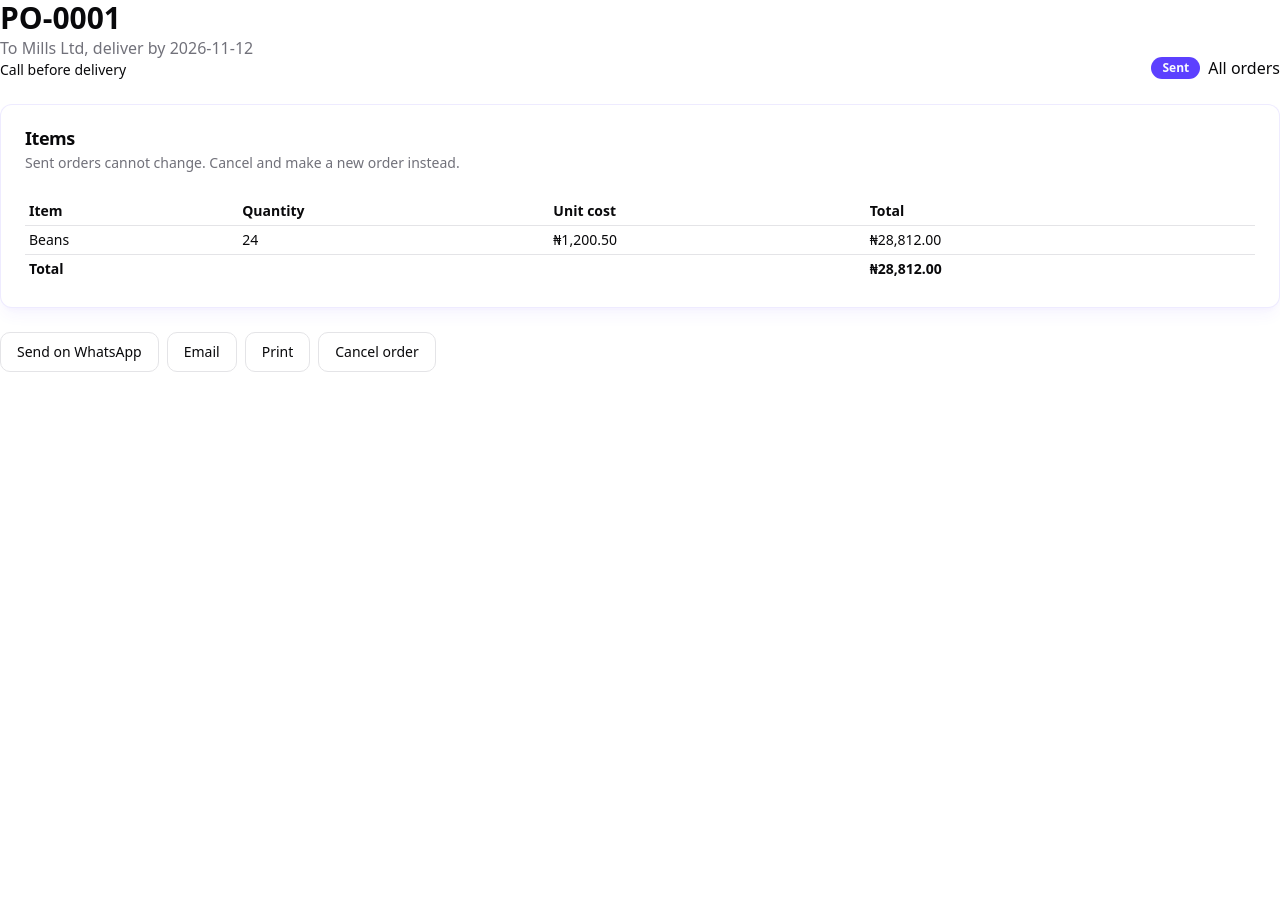
Test: a sent order is shared with the supplier and cancelled with a reason
Click the button "Cancel order": (377, 352) [318,332,436,372]
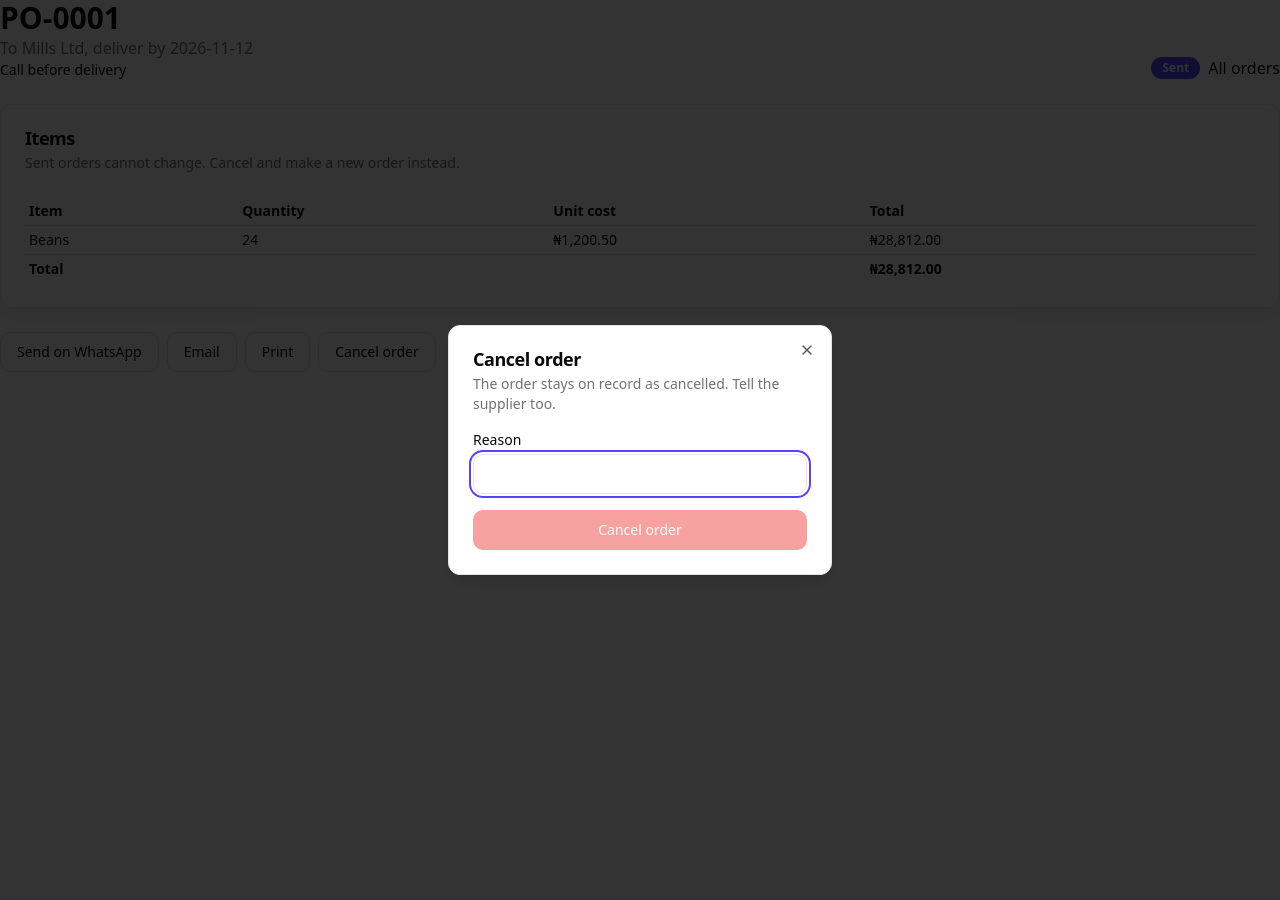
In the field labelled "Reason": (640, 474) [473,454,807,494], type "Found a cheaper supplier"
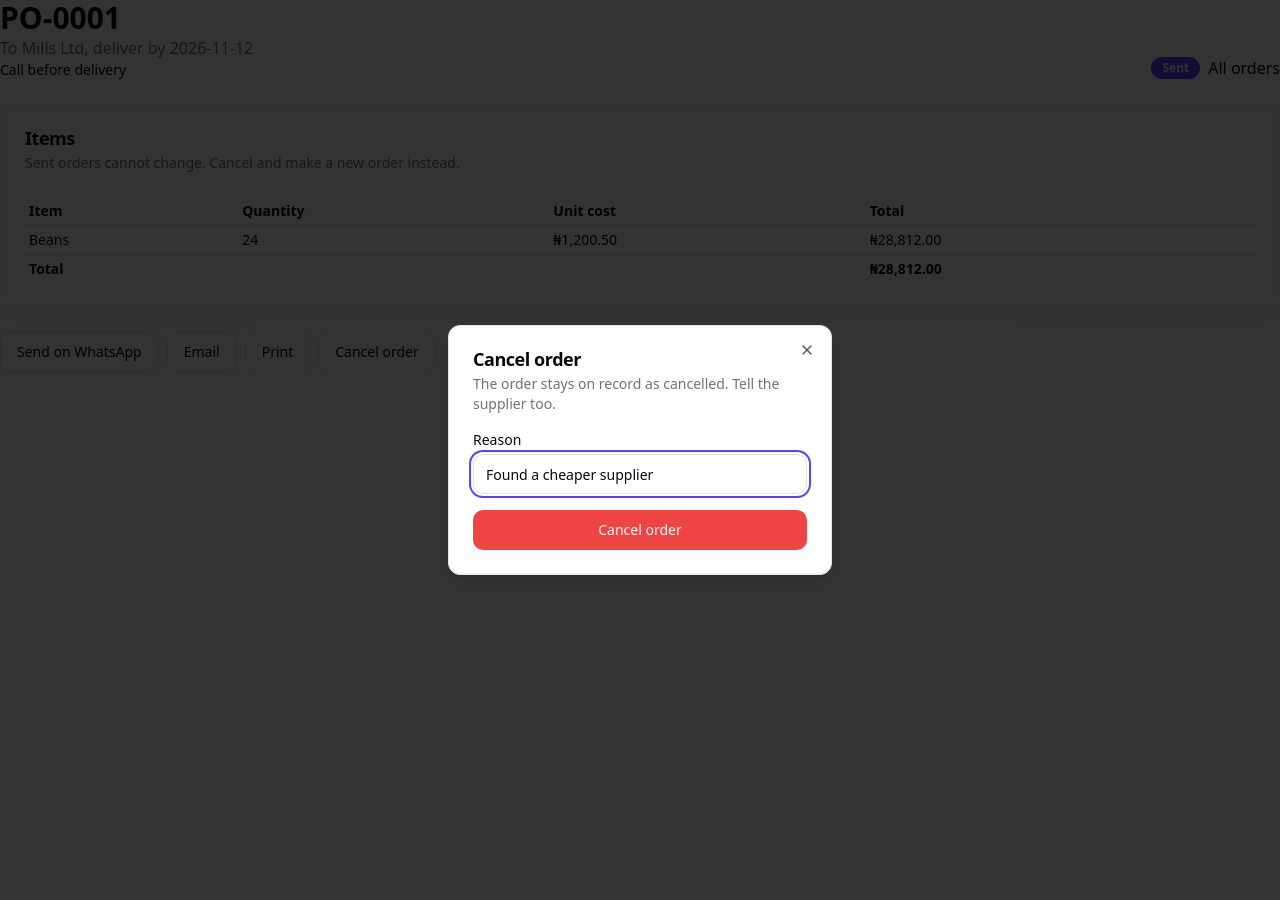
Click the button "Cancel order": (640, 530) [473,510,807,550]
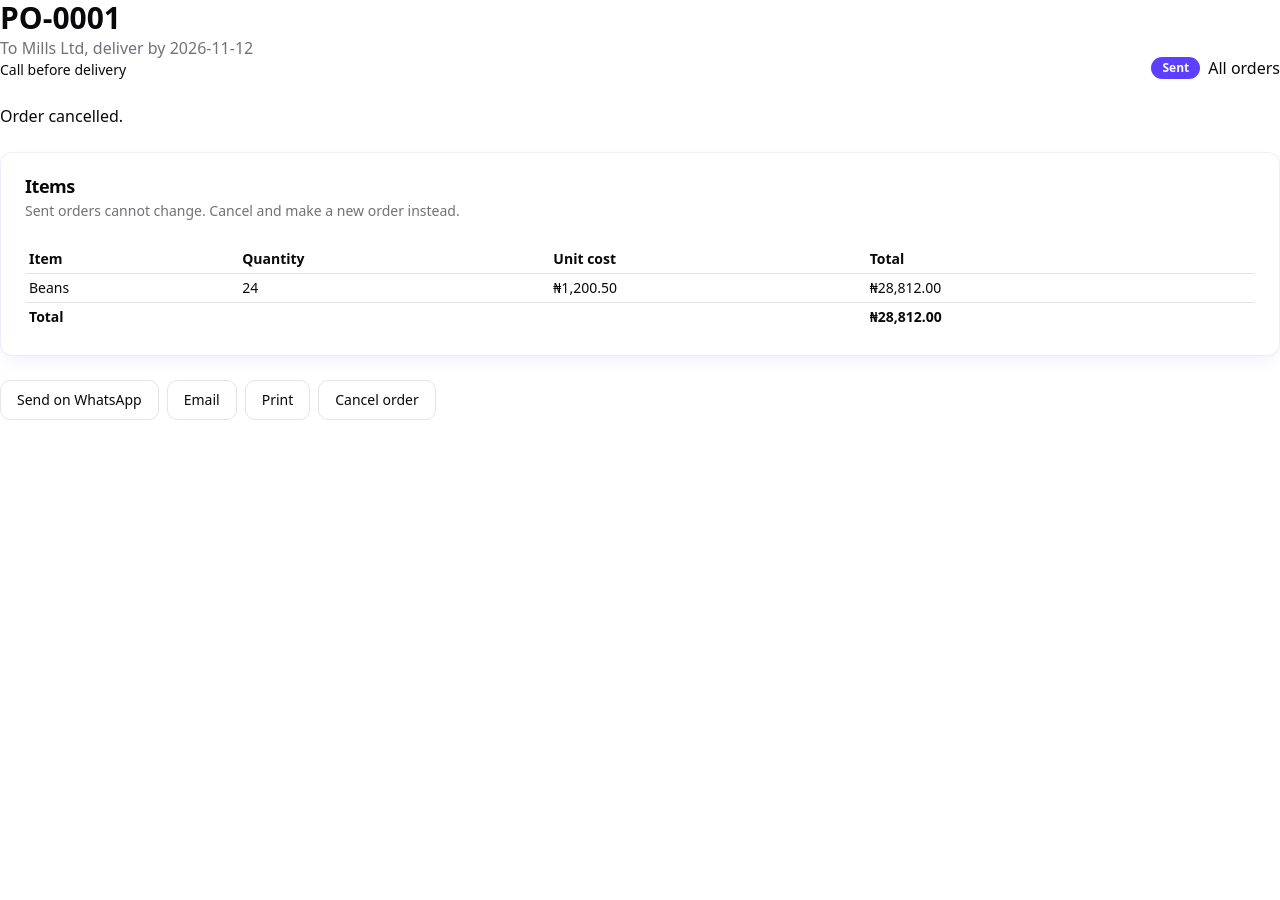
Check: the text "Order cancelled." is shown, box [0,105,123,127]
